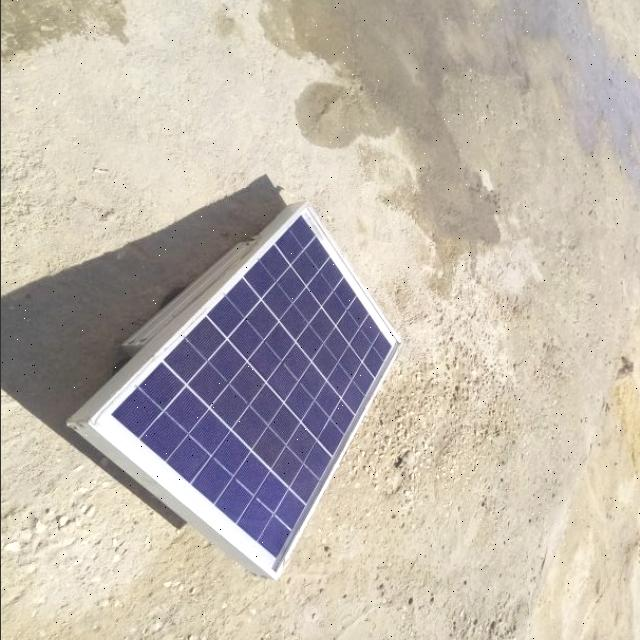Normal Solar Panel: (86, 204, 404, 574)
